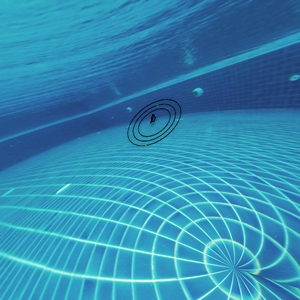circle: (115, 92, 190, 162)
submarine: (148, 115, 156, 122)
